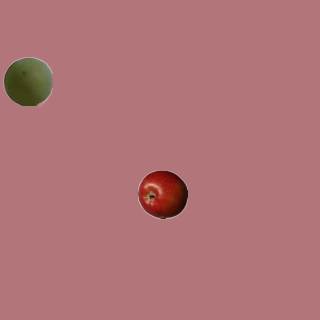Apple Braeburn: (137, 169, 187, 219)
Grape White 4: (2, 56, 52, 106)
